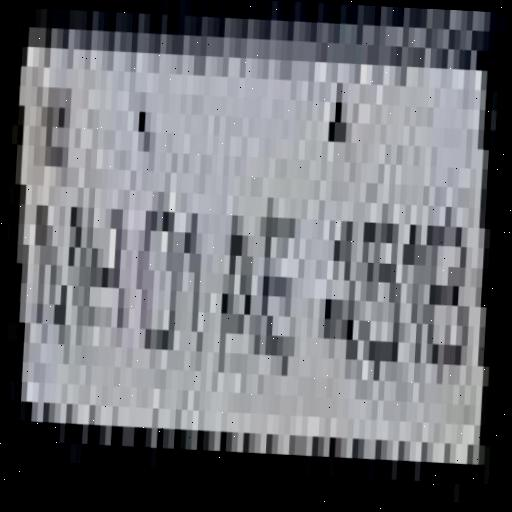number plate: (0, 7, 489, 484)
